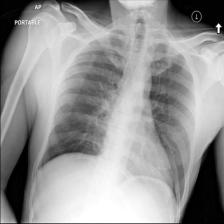normal: (37, 17, 198, 206)
